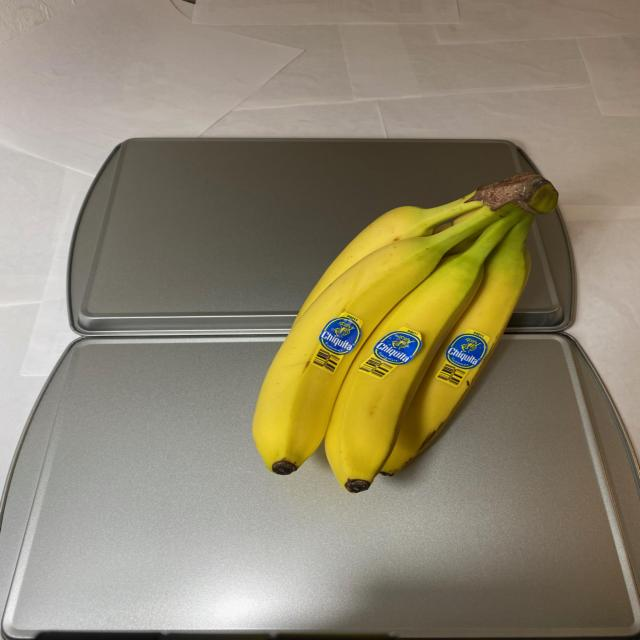Banana: (247, 168, 570, 500)
